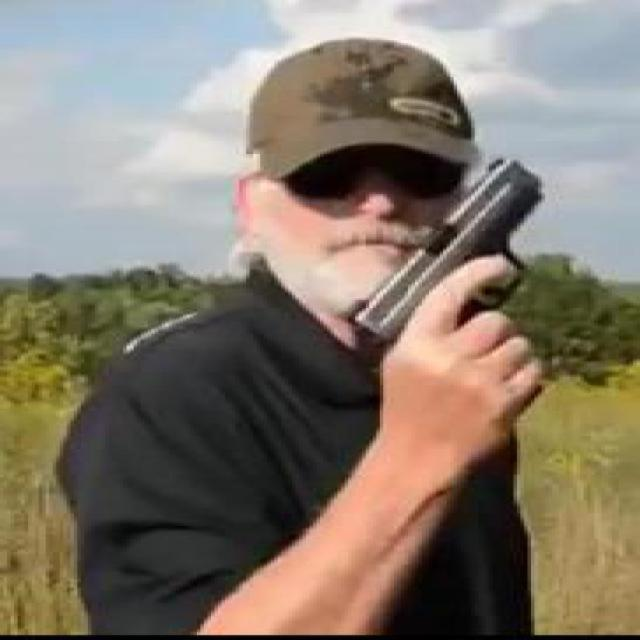pistol: (352, 156, 562, 400)
